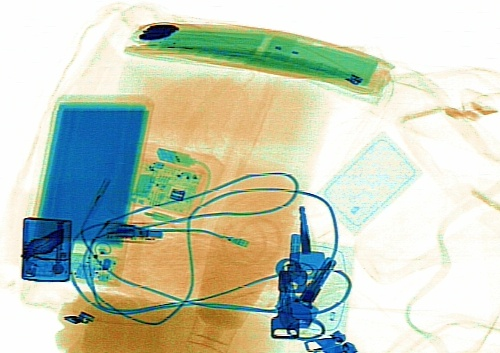lighter: (19, 215, 72, 282)
